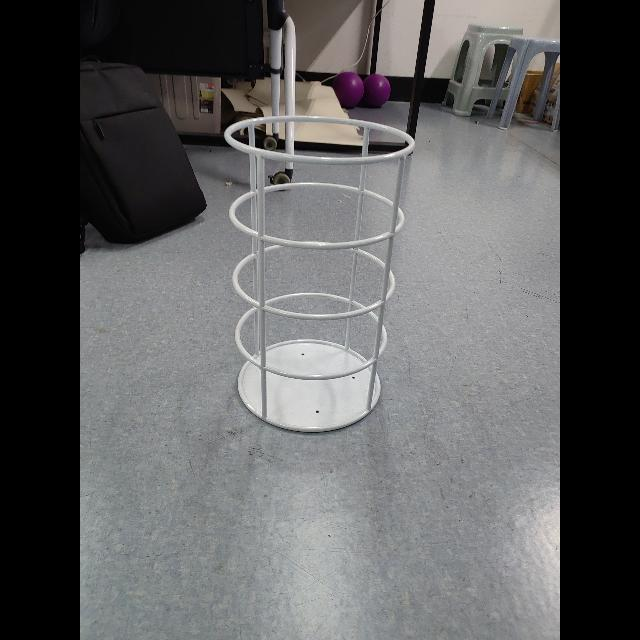S: (223, 114, 417, 436)
